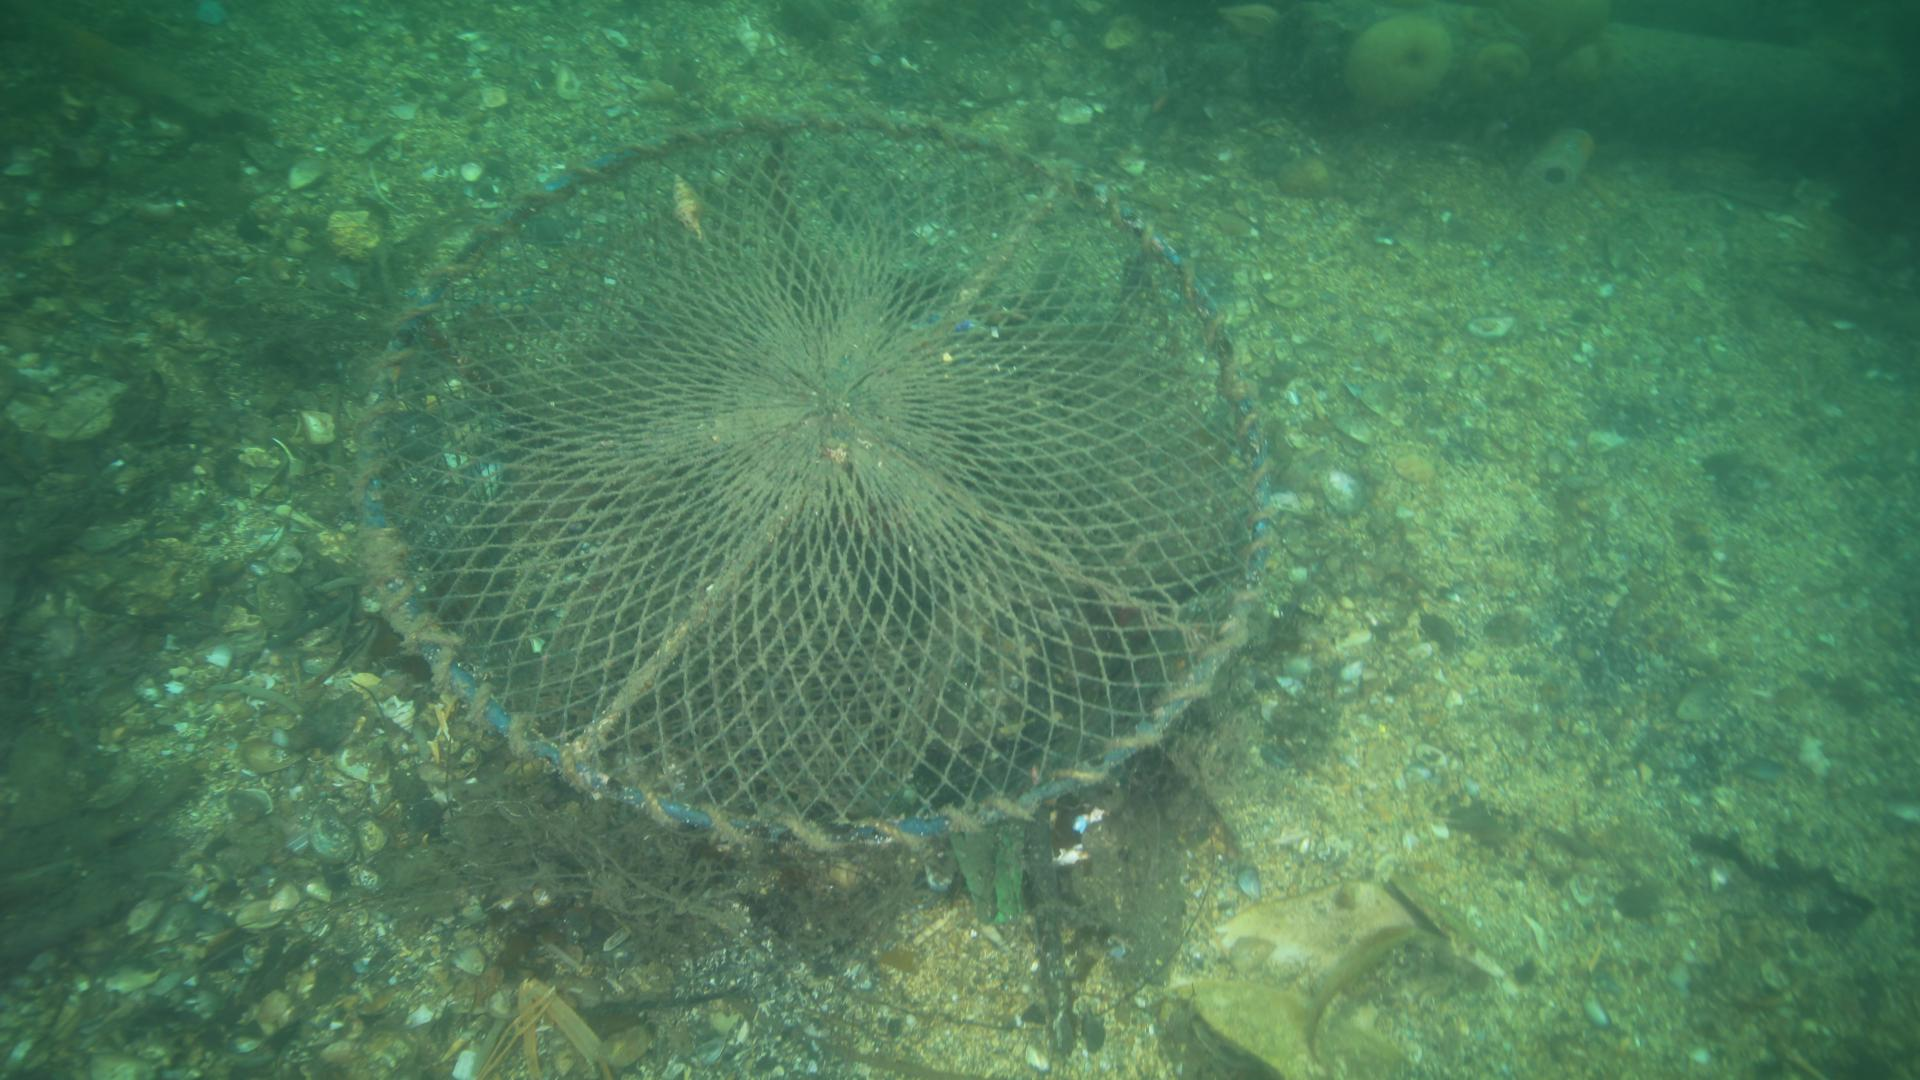circular fish trap: (355, 107, 1274, 851)
